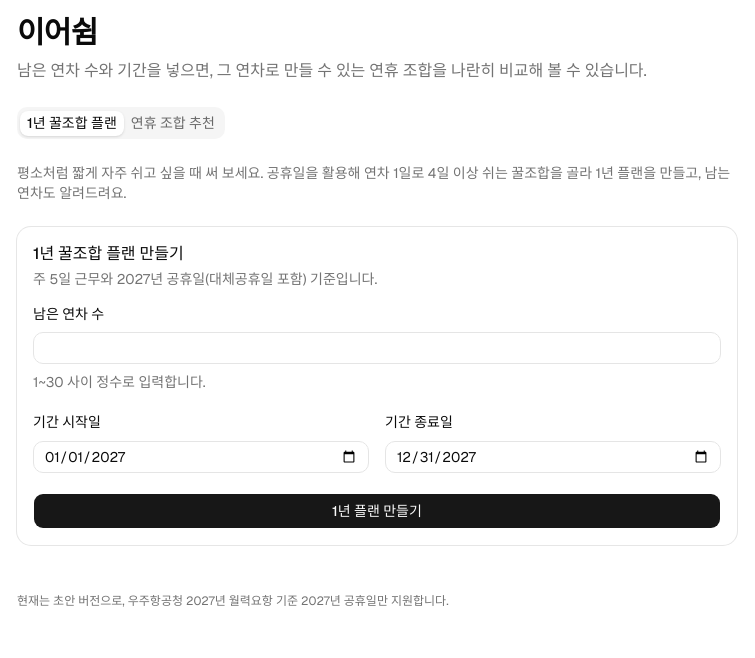
연휴 조합 추천 화면 › 조건에 맞는 조합이 없으면 없다고 안내한다
Click the tab "연휴 조합 추천": (173, 123) [124, 110, 222, 136]
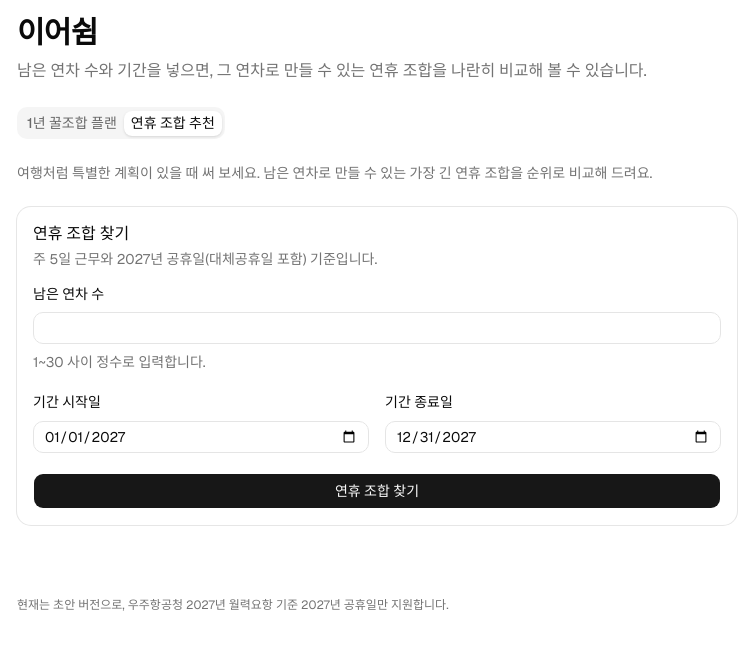
In the field labelled "남은 연차 수": (377, 328) [33, 312, 721, 344], type "1"
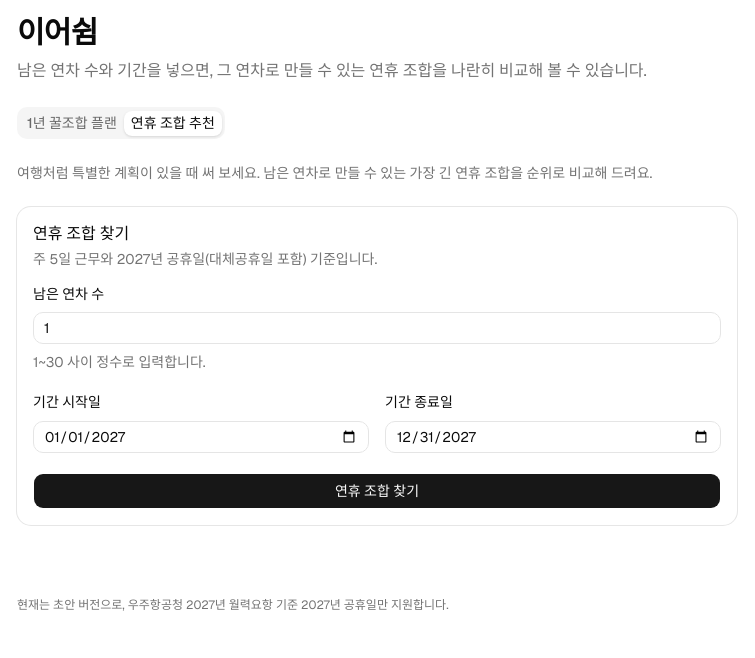
In the date field labelled "기간 시작일": (201, 436) [33, 420, 369, 452], type "2027-01-04"
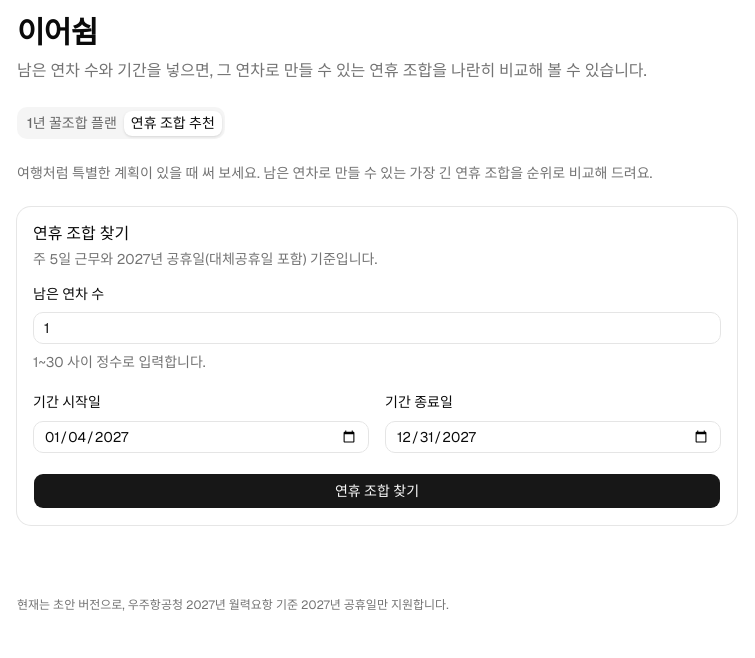
In the date field labelled "기간 종료일": (553, 436) [385, 420, 721, 452], type "2027-01-04"
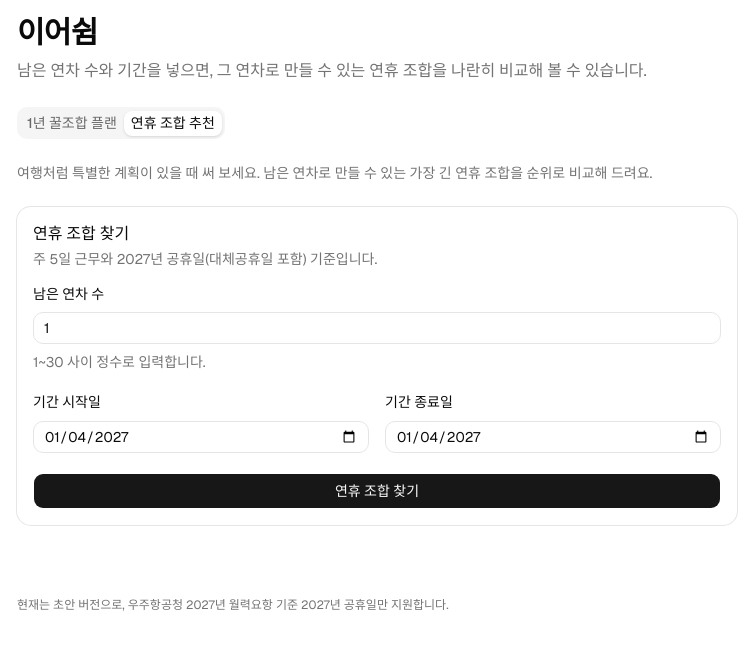
Click the button "연휴 조합 찾기": (377, 490) [33, 472, 721, 508]
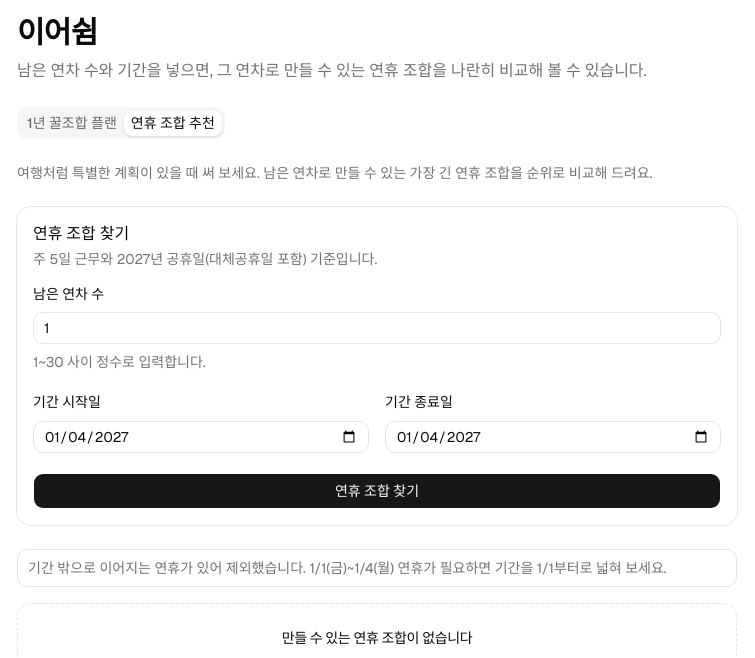
Now the text "만들 수 있는 연휴 조합이 없습니다" is shown, box [282, 628, 472, 648]
